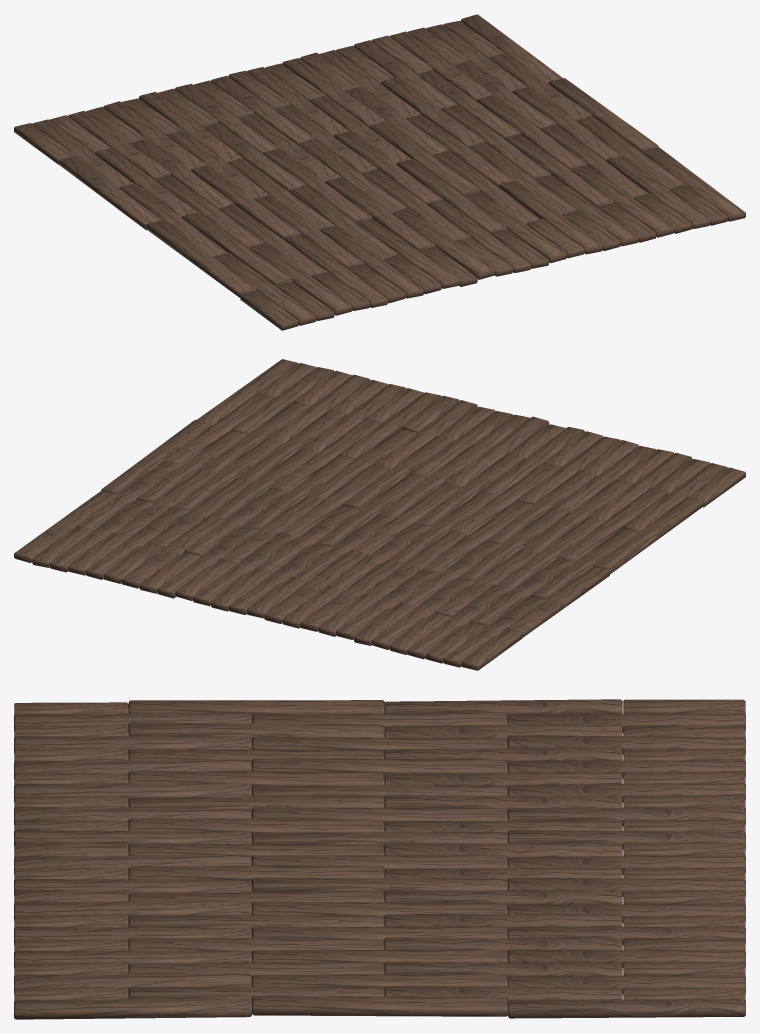
Rendered from SM_WoodFloor9x9_035.fbx.
3 views of the same model, one above another, from view 1: azimuth 30°, elevation 25°; view 2: azimuth 150°, elevation 25°; view 3: azimuth 270°, elevation 25° (orthographic). The views are drawn at different scales.
Visible parts, largest first — view 1: SM_WoodFloor9x9.035; view 2: SM_WoodFloor9x9.035; view 3: SM_WoodFloor9x9.035.
Boxes of the visible parts, <box> form: SM_WoodFloor9x9.035: <box>14,14,745,330</box>; SM_WoodFloor9x9.035: <box>14,359,745,670</box>; SM_WoodFloor9x9.035: <box>14,699,745,1019</box>.
Size of the model in its own units: 900 by 19.7 by 900.
